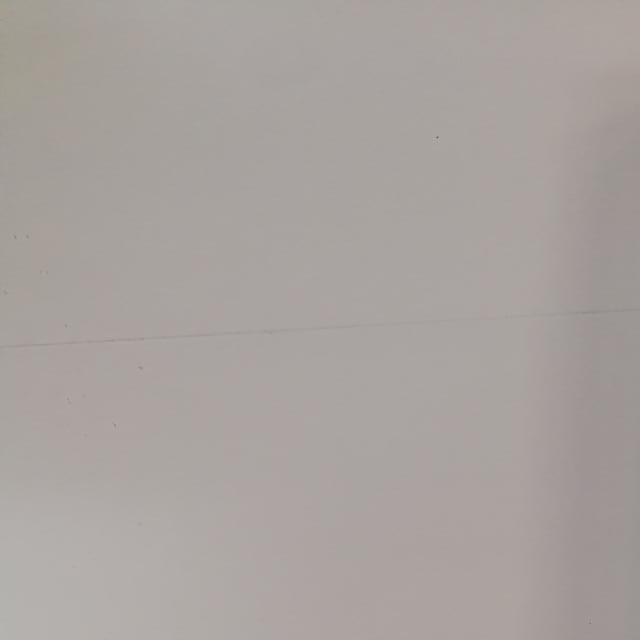fluorescent tube: (572, 6, 640, 640)
